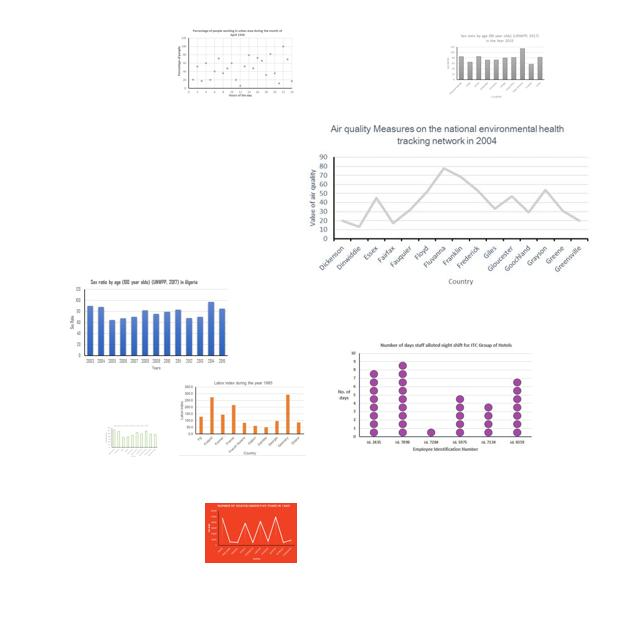Graph: (302, 120, 592, 291), (331, 340, 536, 456), (67, 277, 230, 372), (179, 380, 306, 456), (177, 28, 295, 97), (444, 32, 546, 99), (205, 503, 297, 563), (104, 424, 159, 457)
